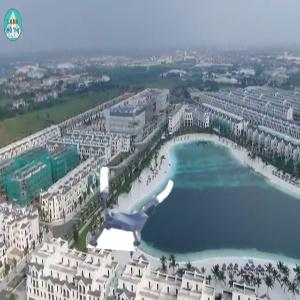drone: (89, 164, 178, 253)
